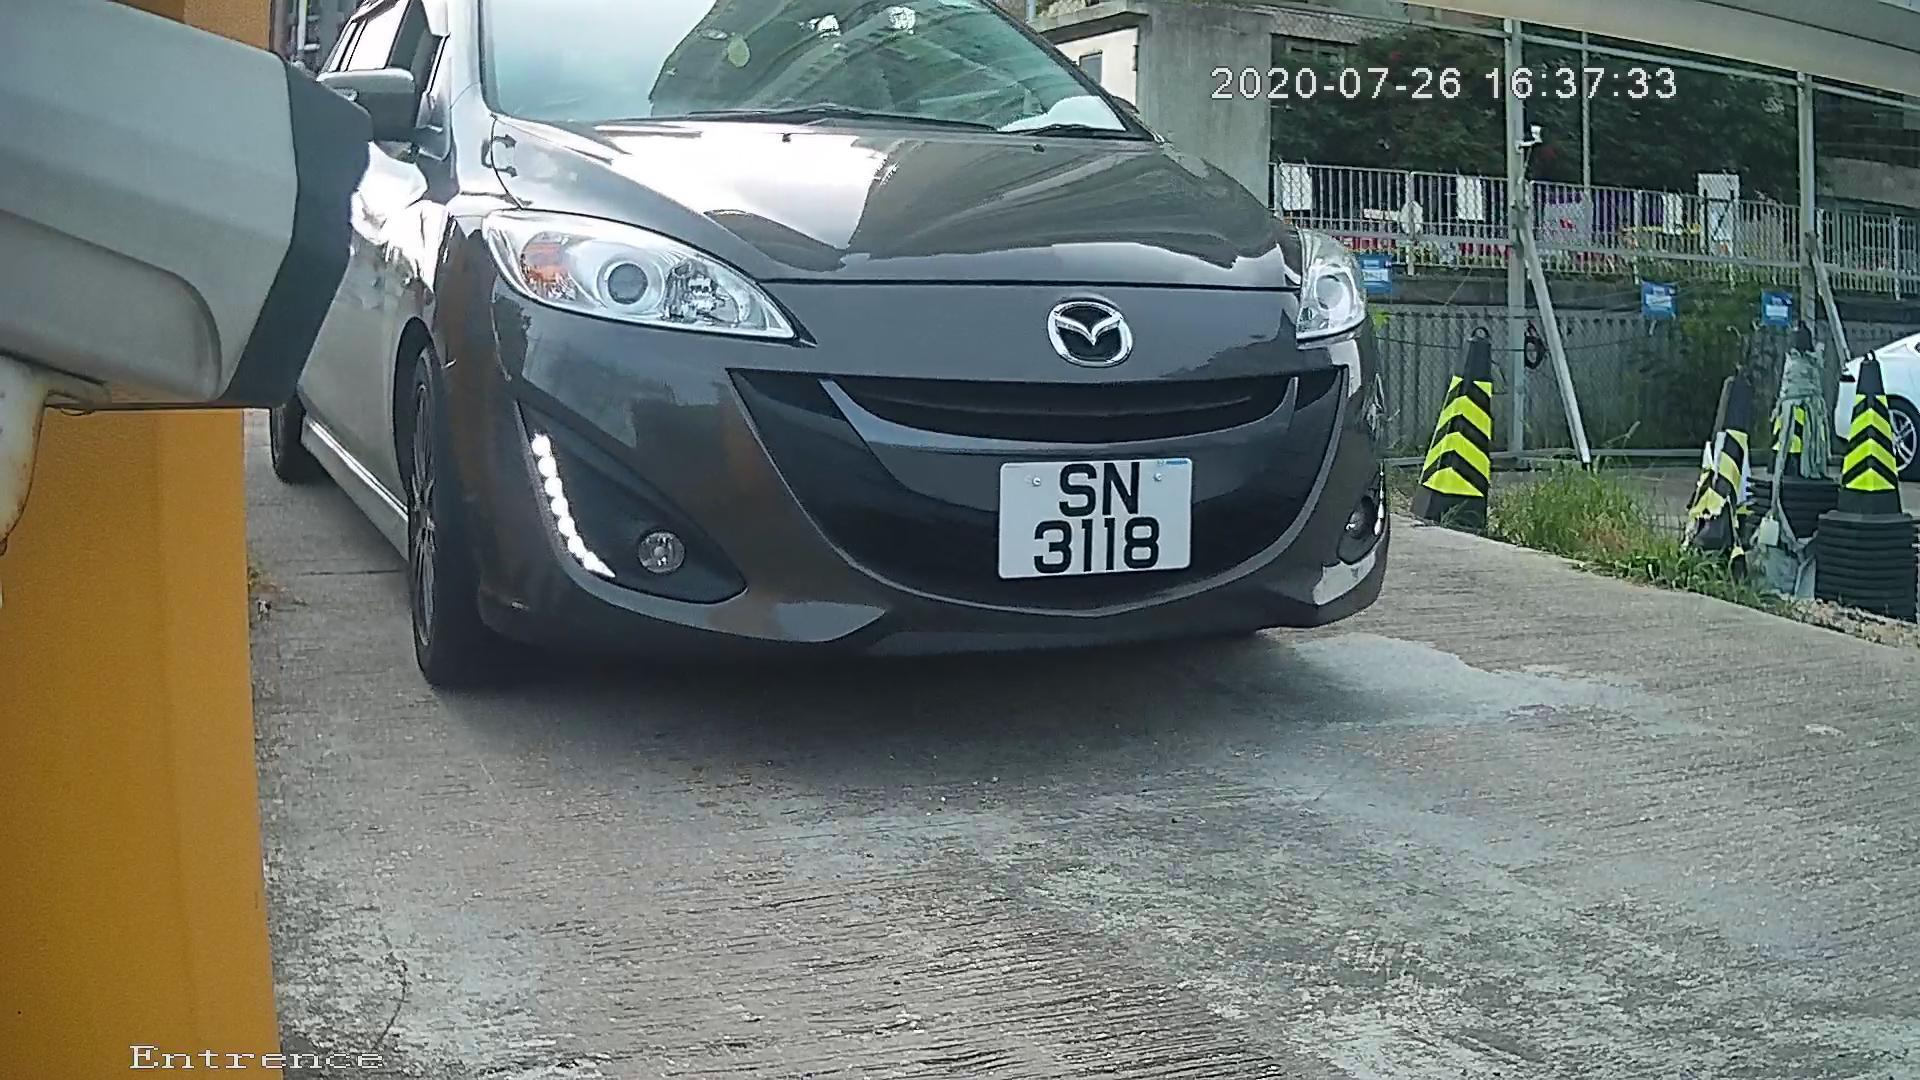privatecar: (320, 1, 1425, 717)
